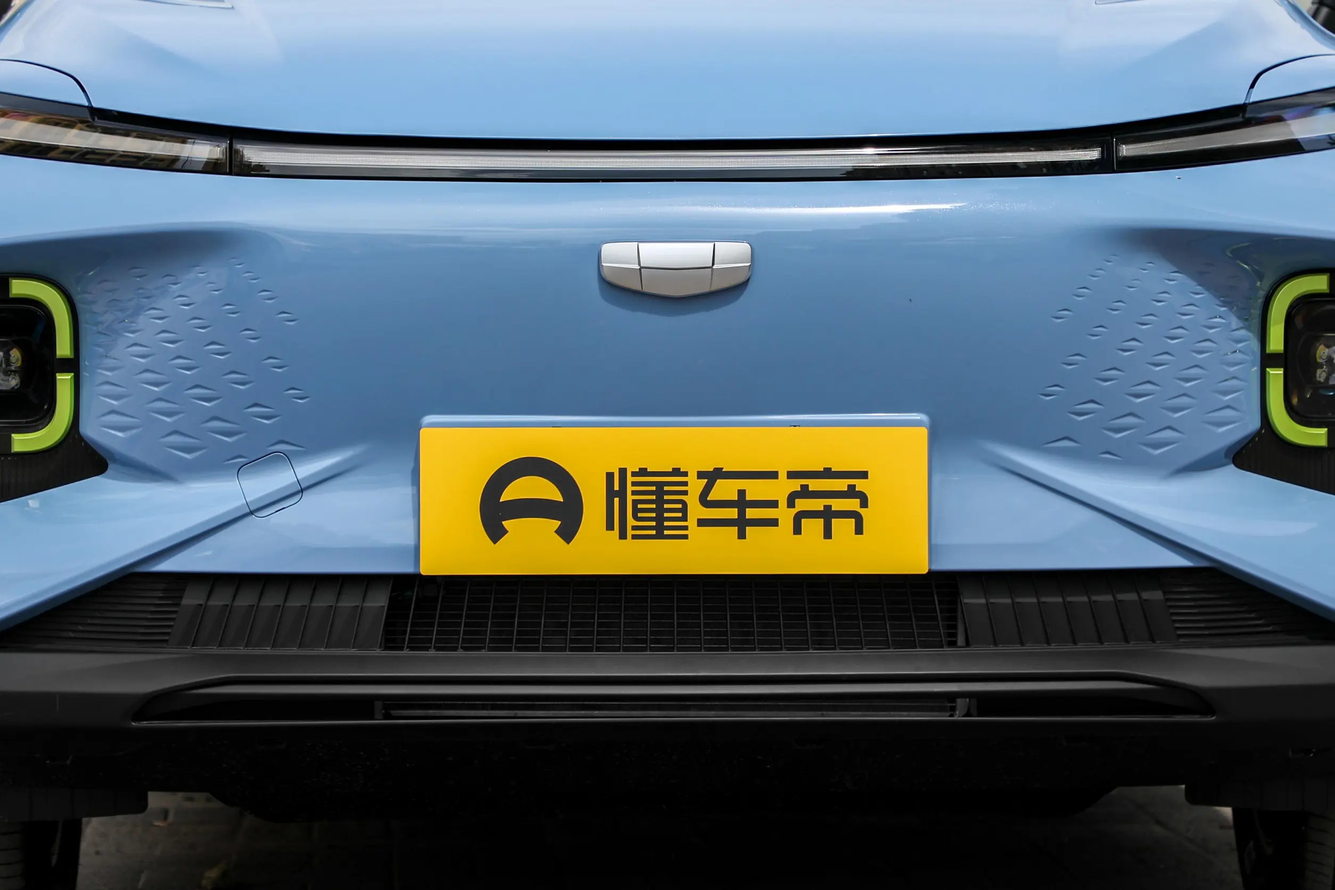GEOMETRY: (601, 243, 750, 295)
